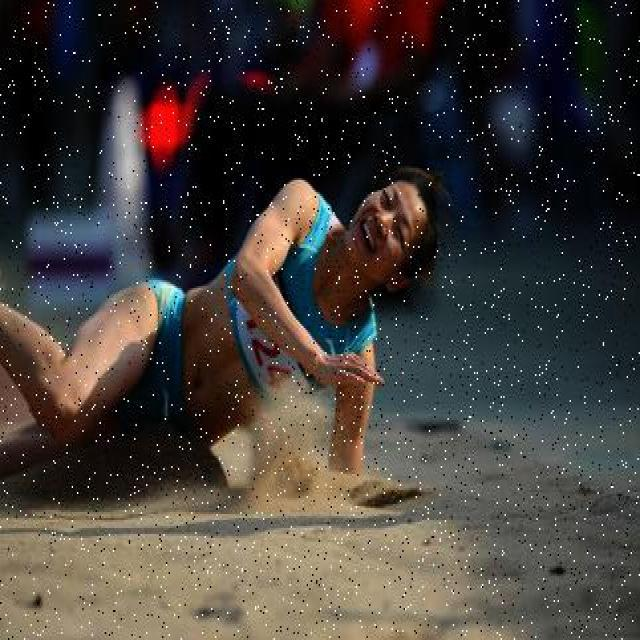fall: (12, 168, 433, 494)
